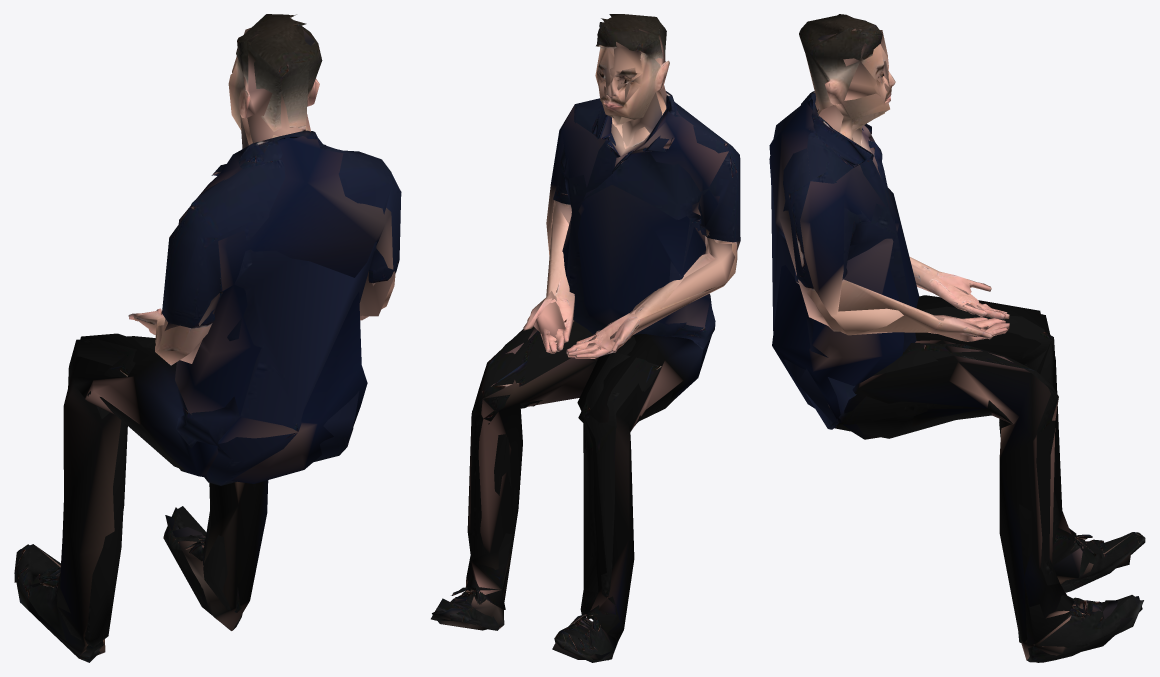
The model's file is persona-06.glb.
3 renders of one model, left to right at view 1: azimuth 30°, elevation 25°; view 2: azimuth 150°, elevation 25°; view 3: azimuth 270°, elevation 25°, orthographic. The views are drawn at different scales.
Parts seen in each view (by area): view 1: cerca, lejos; view 2: lejos, cerca; view 3: lejos, cerca.
Boxes of the visible parts, x1=… form: cerca: x1=14, y1=14, x2=401, y2=662; lejos: x1=25, y1=18, x2=401, y2=654; lejos: x1=432, y1=29, x2=740, y2=660; cerca: x1=431, y1=14, x2=740, y2=662; lejos: x1=769, y1=15, x2=1142, y2=662; cerca: x1=769, y1=14, x2=1145, y2=662.
Bounding box in the file's own units: 0.5009 × 1.44 × 0.7943.
Materials: 2 (1 with a texture image).
